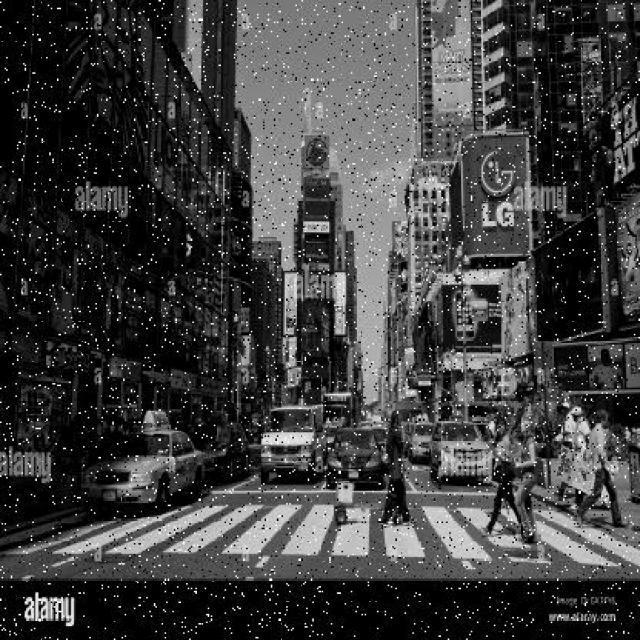crosswalk: (0, 499, 640, 569)
